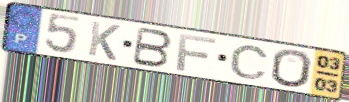5: (43, 11, 82, 56)
B: (130, 25, 174, 69)
C: (228, 44, 271, 80)
F: (175, 32, 219, 73)
K: (86, 19, 123, 63)
O: (270, 48, 314, 89)
